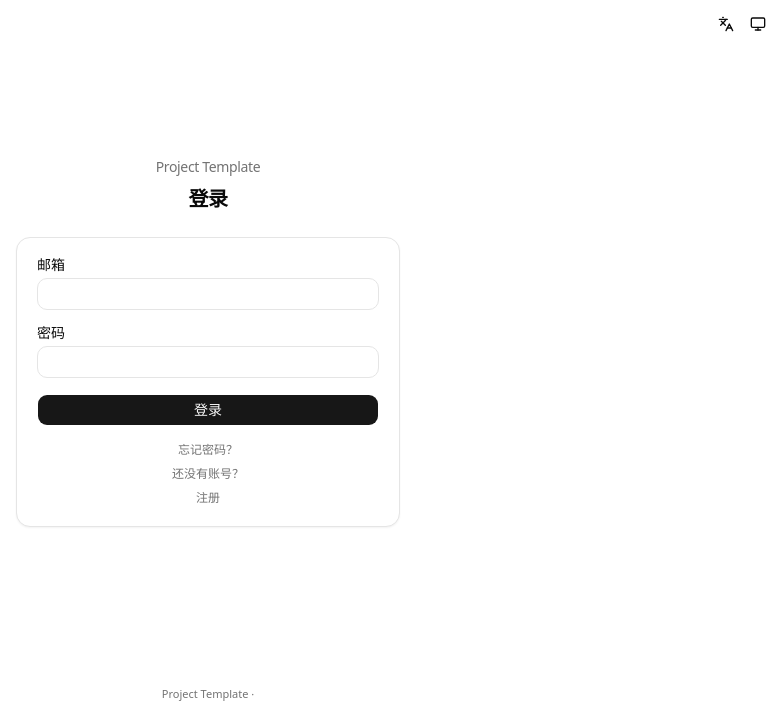
登录两步（技术方案 §5B） › 未验证邮箱换成验证码步，提交带邮箱与验证码
Type "owner@example.com" into the field labelled "邮箱" at coordinates (208, 294), box [37,278,379,310]
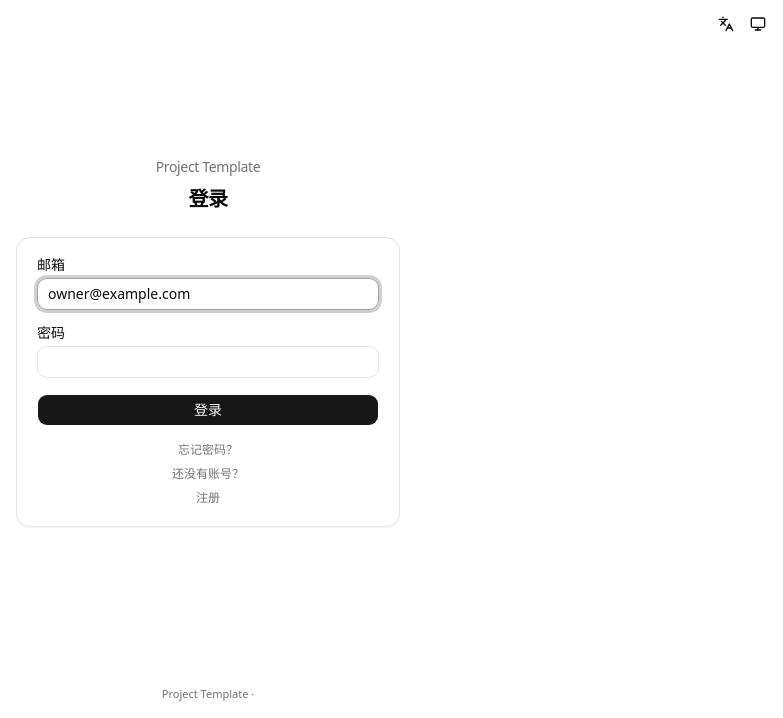
Type "secret-password" into the password field labelled "密码" at coordinates (208, 362), box [37,346,379,378]
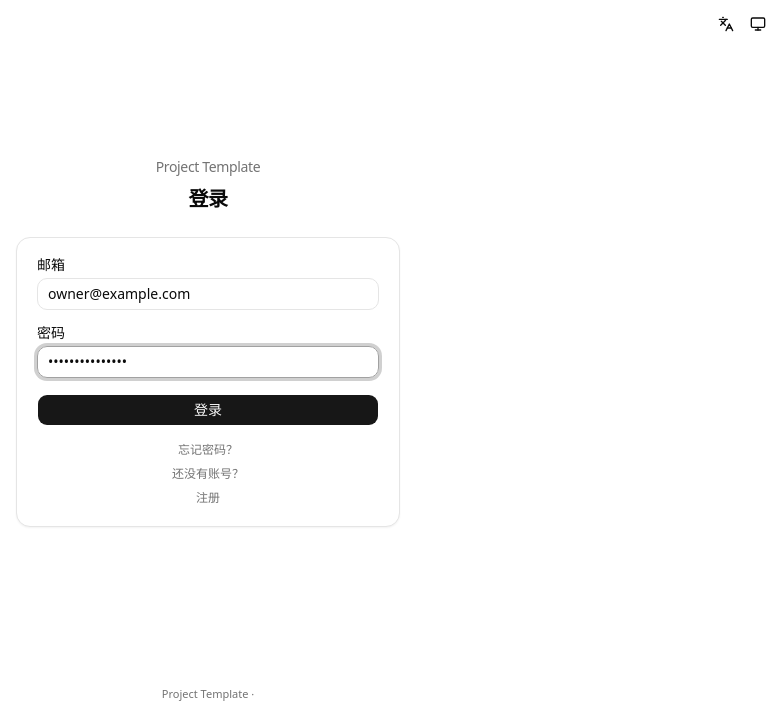
Click the button "登录" at coordinates (208, 410), box [37,394,379,426]
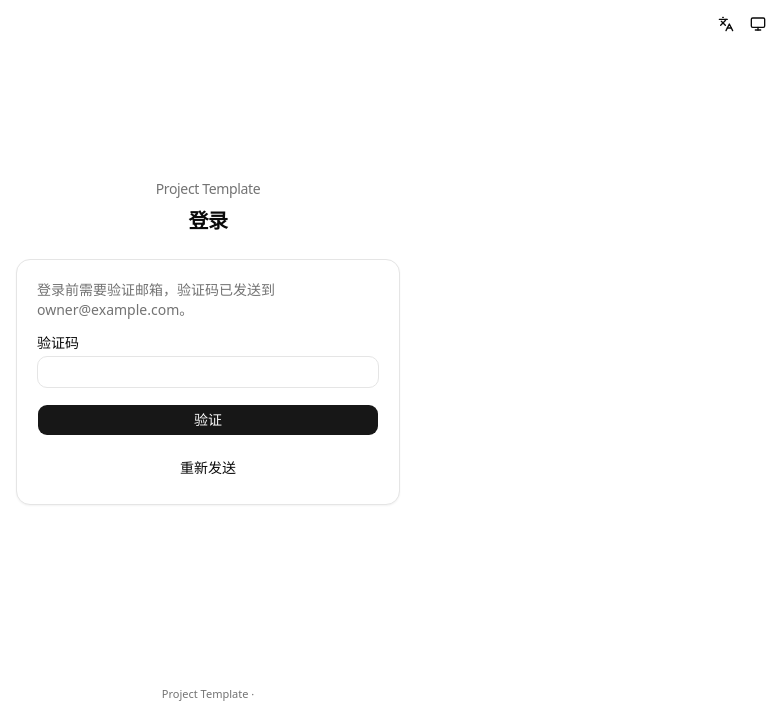
Type "654321" into the field labelled "验证码" at coordinates (208, 372), box [37,356,379,388]
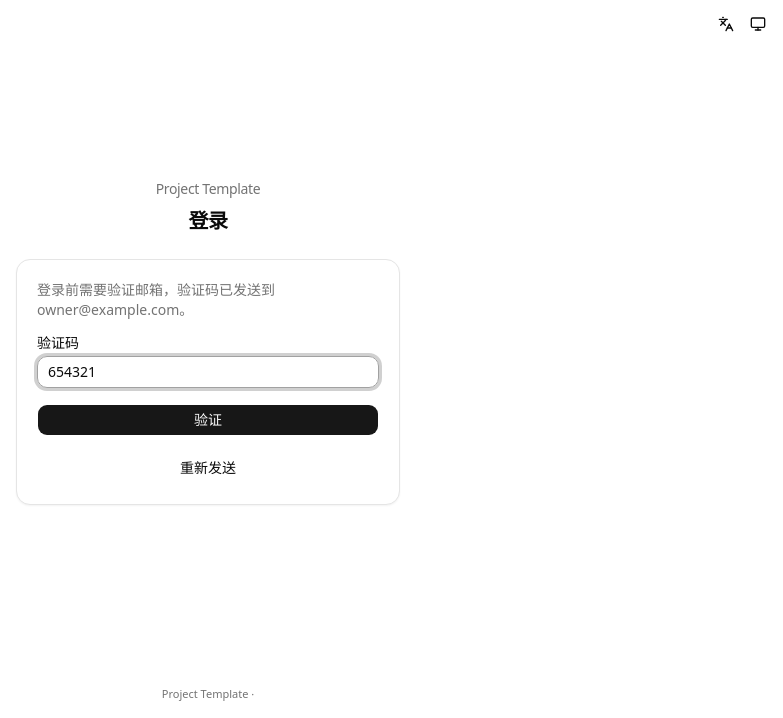
Click the button "验证" at coordinates (208, 420), box [37,404,379,436]
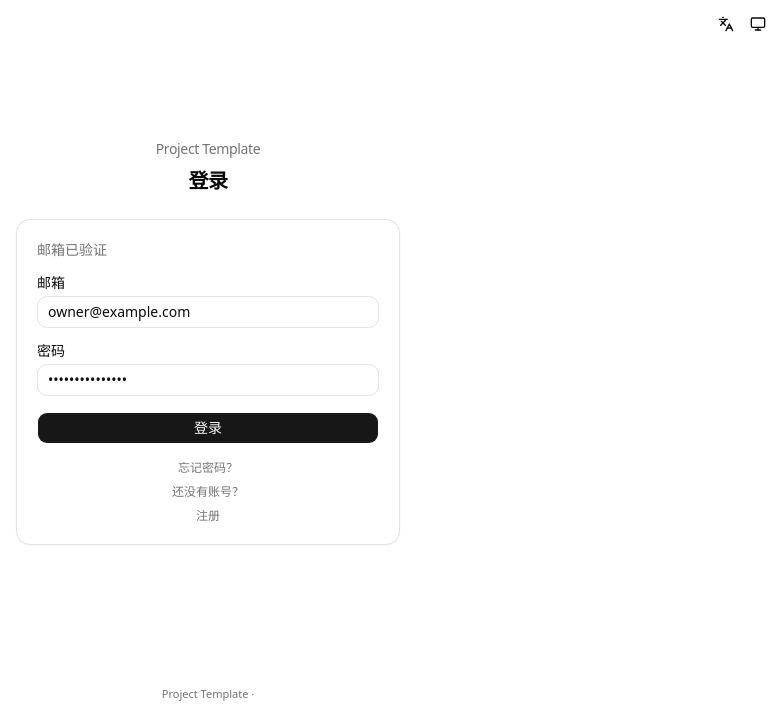
expect the message reads "邮箱已验证": met, box [37,240,107,259]
